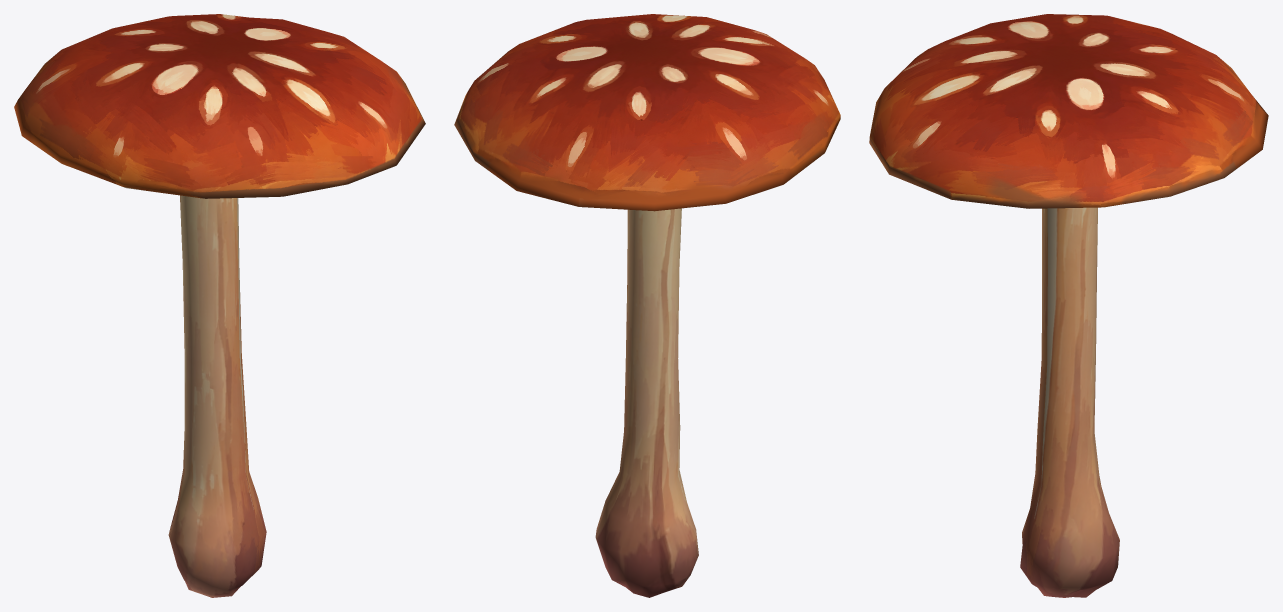
Rendered from NormalMushroom.fbx.
3 views of the same model, side by side, from view 1: azimuth 30°, elevation 25°; view 2: azimuth 150°, elevation 25°; view 3: azimuth 270°, elevation 25° (orthographic).
Visible parts, largest first — view 1: Cap, Stem; view 2: Cap, Stem; view 3: Cap, Stem.
Boxes of the visible parts, x1,y1,x2,y2 form: Cap: (14, 14, 425, 198); Stem: (168, 195, 266, 597); Cap: (454, 14, 840, 211); Stem: (595, 208, 698, 597); Cap: (869, 14, 1268, 208); Stem: (1020, 207, 1119, 597).
Size of the model in its own units: 108 by 167 by 111.
